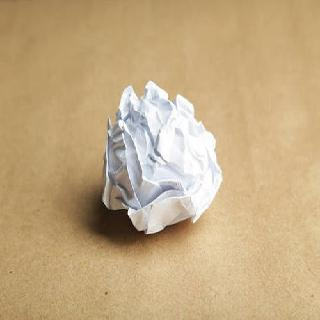8/可回收垃圾/纸: (100, 79, 224, 235)
